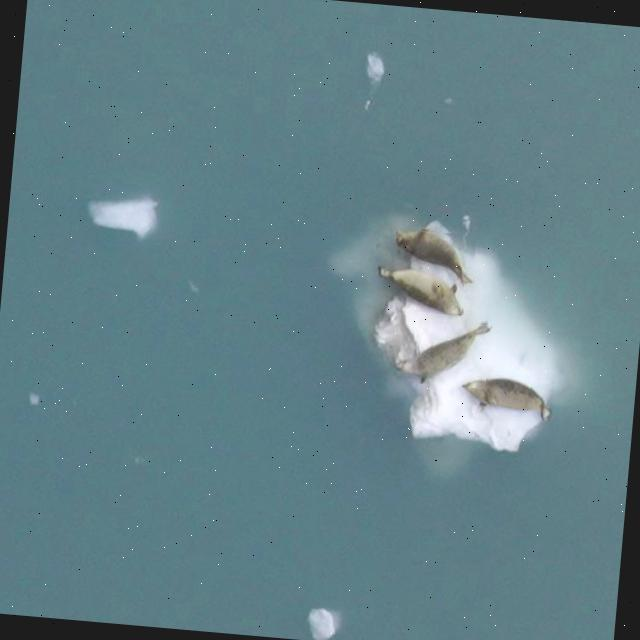seal: (390, 214, 483, 293), (394, 322, 499, 389), (373, 256, 471, 318), (460, 376, 553, 419)
